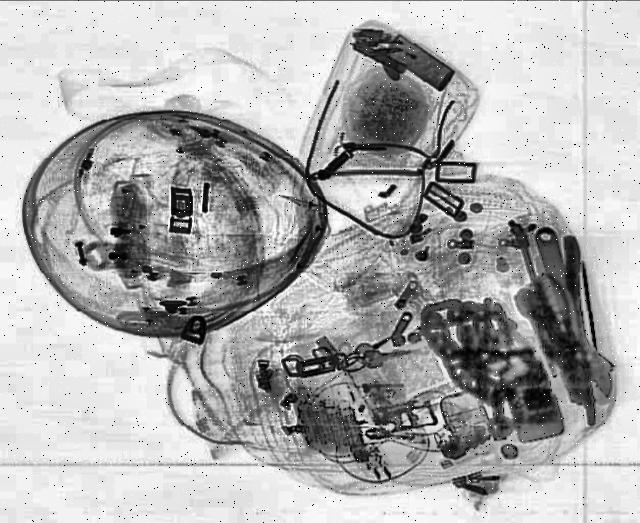Wrench: (518, 224, 620, 410)
